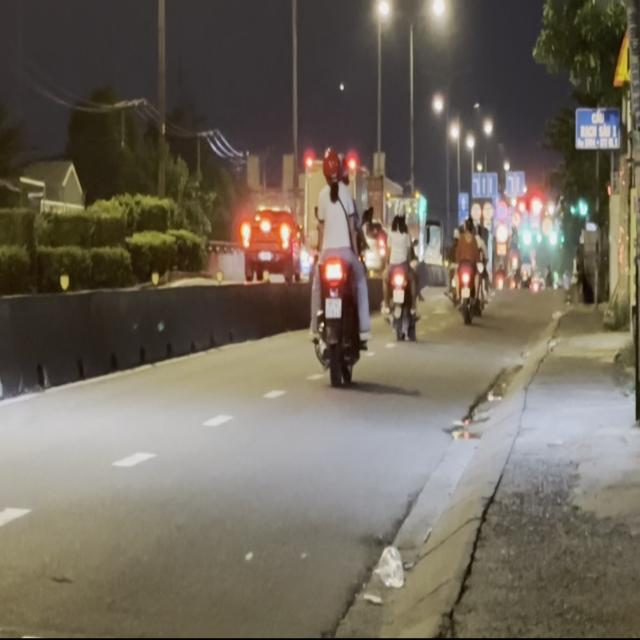helmet: (321, 146, 341, 183)
licenseplate: (305, 144, 370, 386)
nohelmet: (324, 297, 341, 317)
